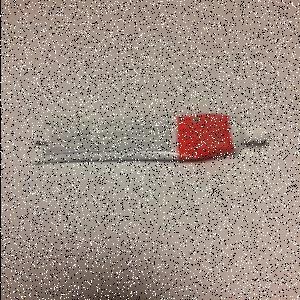Trash: (26, 114, 274, 166)
